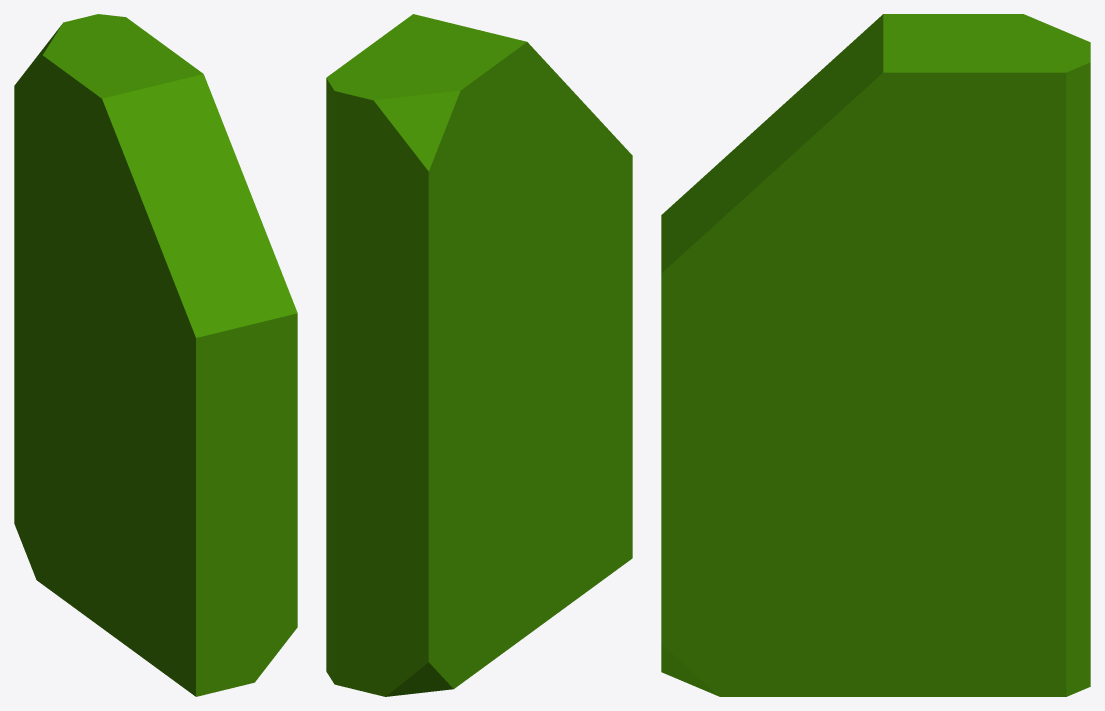
File: SM_Add_small2_damaged.fbx
3 views of the same model, side by side, from view 1: azimuth 30°, elevation 25°; view 2: azimuth 150°, elevation 25°; view 3: azimuth 270°, elevation 25° (orthographic). The views are drawn at different scales.
Visible parts, largest first — view 1: Add_small2_damaged; view 2: Add_small2_damaged; view 3: Add_small2_damaged.
Boxes of the visible parts, left/top/right/bottom form: Add_small2_damaged: left=14, top=14, right=297, bottom=696; Add_small2_damaged: left=326, top=14, right=632, bottom=696; Add_small2_damaged: left=661, top=14, right=1090, bottom=696.
Size of the model in its own units: 21.52 by 107 by 66.67.
